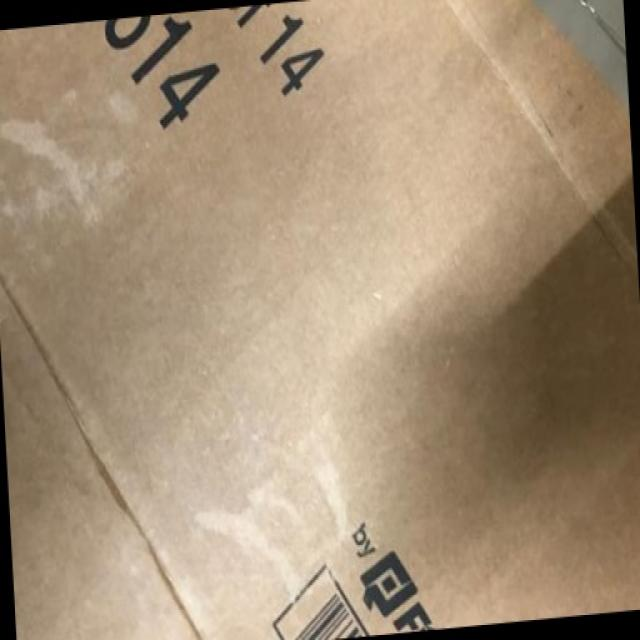carton: (50, 1, 565, 498)
